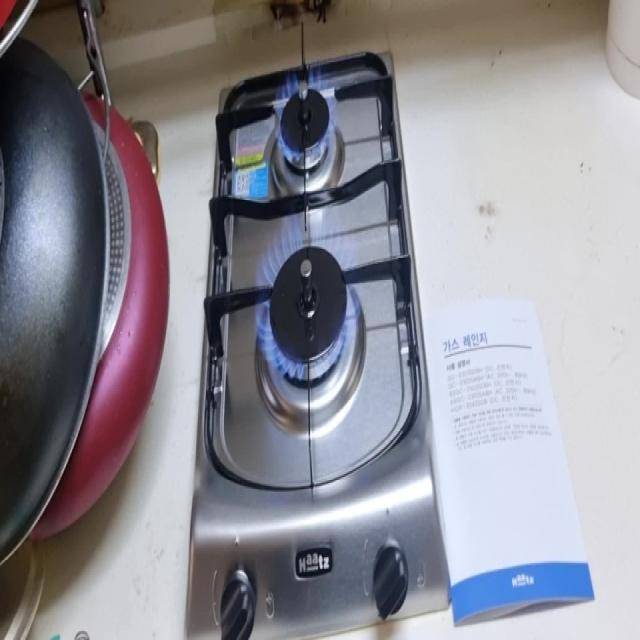knob_OFF: (228, 74, 392, 438)
